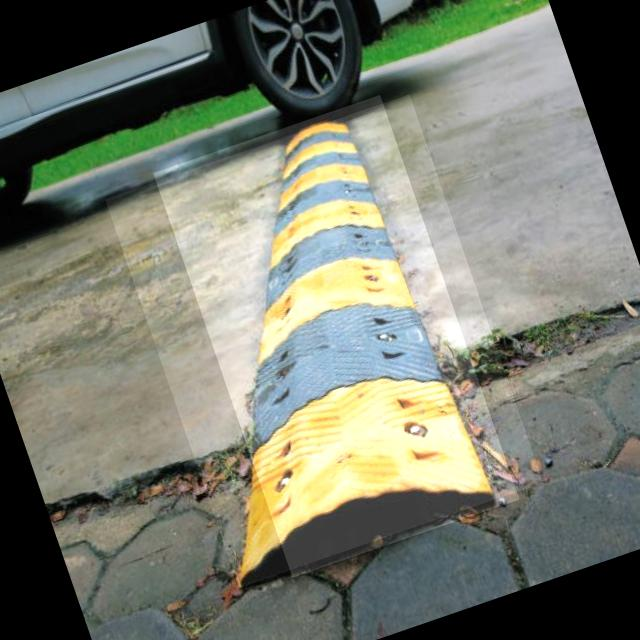bump: (153, 94, 519, 576)
